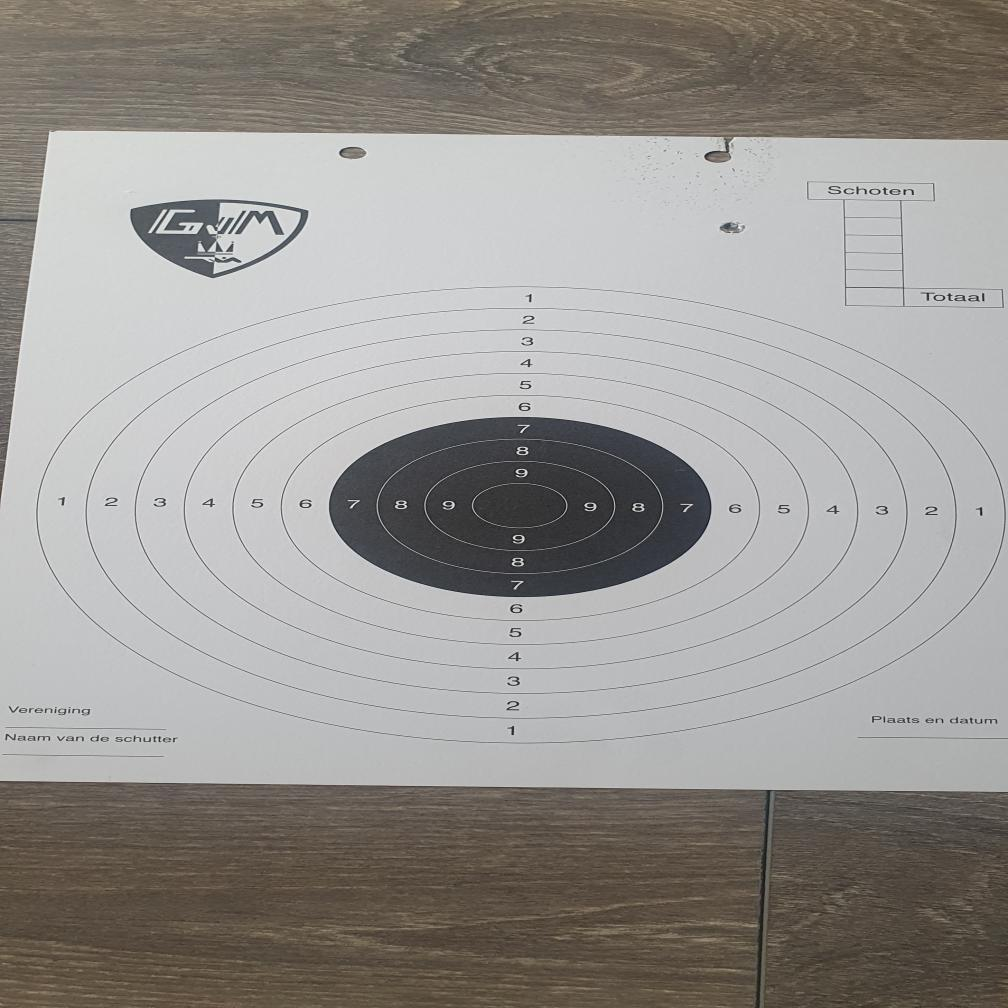0: (710, 222, 751, 235)
Target: (34, 286, 1008, 749)
black_contour: (330, 415, 712, 599)
